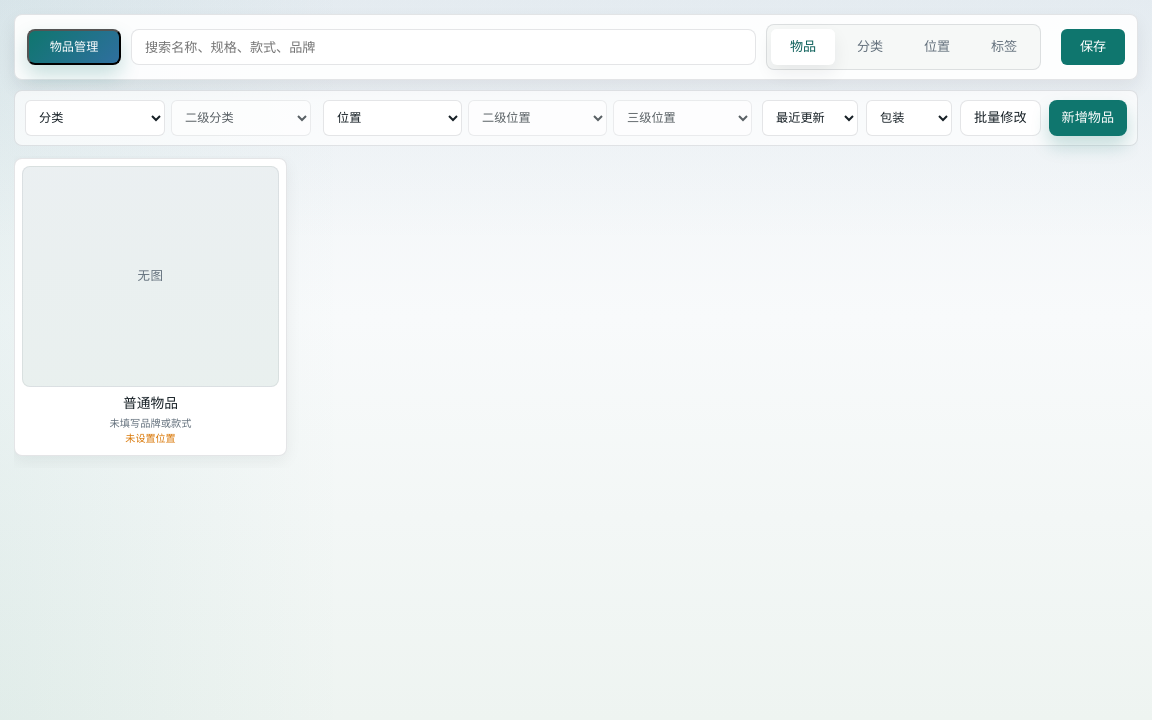
Scenario: password gated browser inventory › keeps the toolbar quiet and opens all records only after the independent password
The image size is (1152, 720).
Expected: the button "无图 普通物品 未填写品牌或款式 未设置位置" is shown, [14, 158, 287, 456]
Click the button "物品管理" at (74,47), box [27, 29, 121, 65]
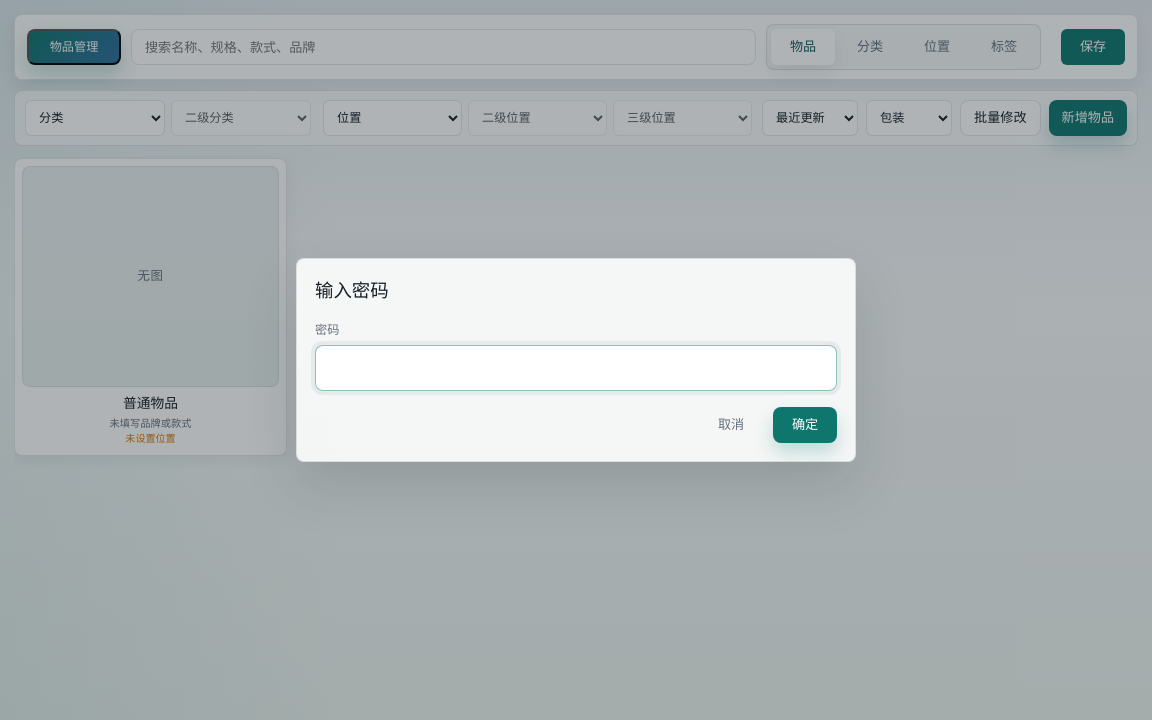
Type "separate-password" into the password field labelled "密码" at (576,368), box [315, 345, 837, 391]
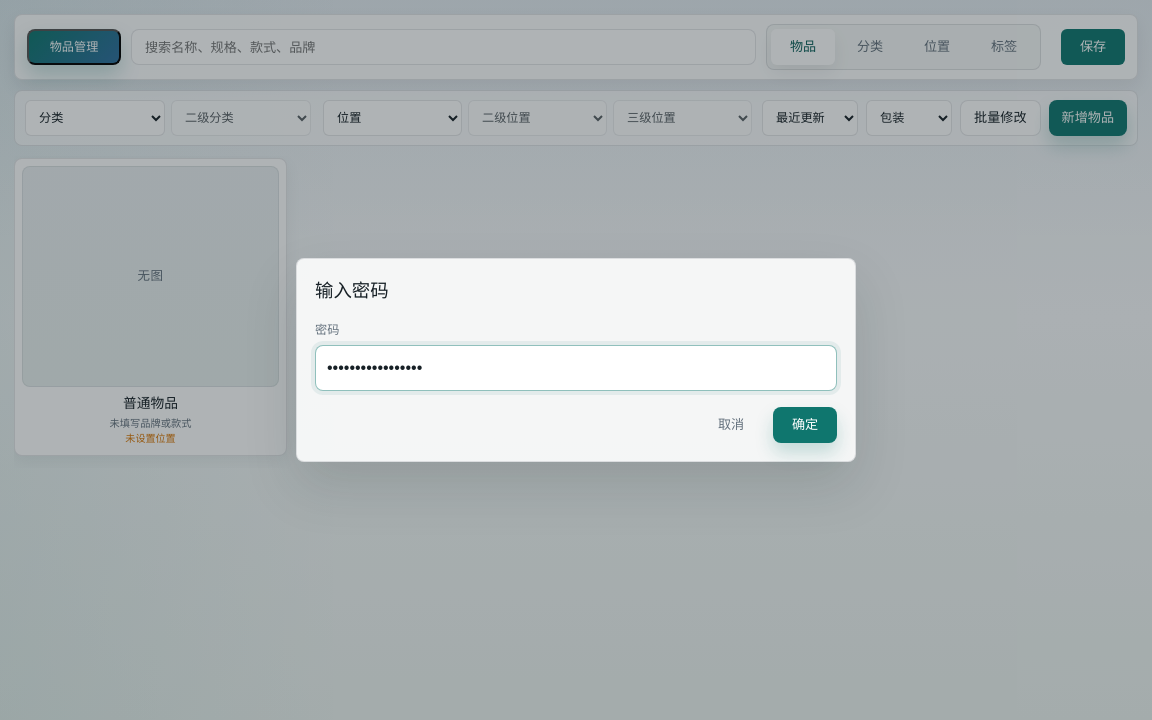
Click the button "确定" at (805,425), box [773, 407, 837, 443]
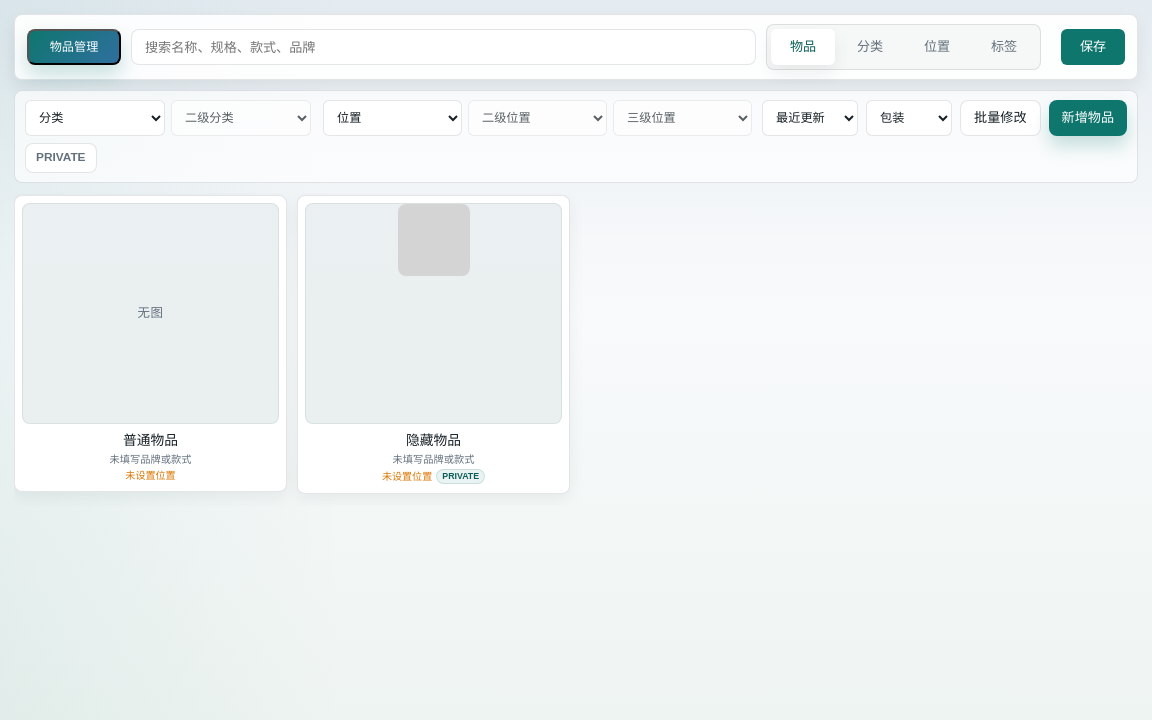
Expected: the button "隐藏物品 未填写品牌或款式 未设置位置 PRIVATE" is shown, [297, 195, 570, 494]
